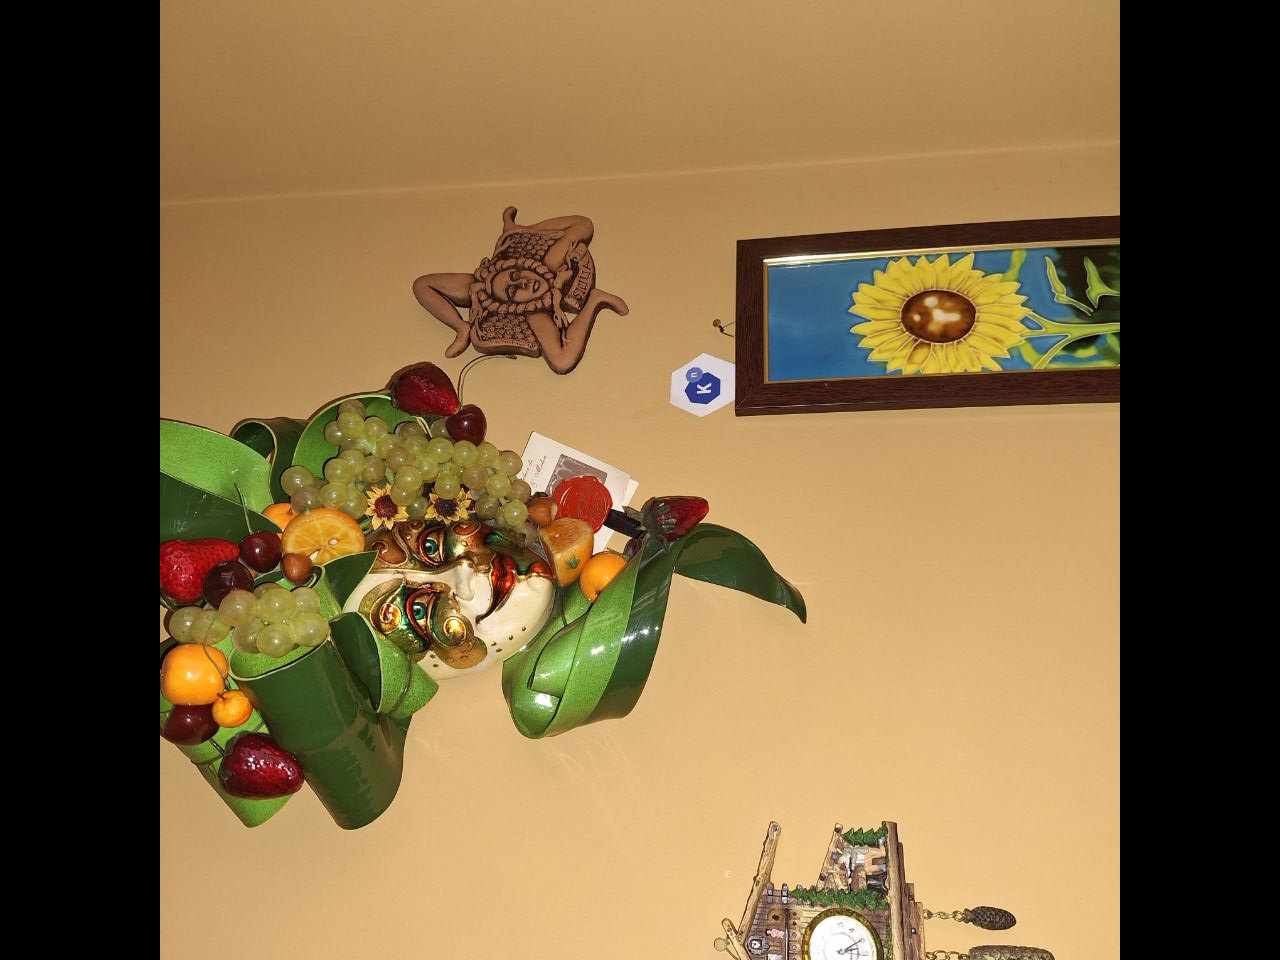knative: (685, 367, 723, 404)
